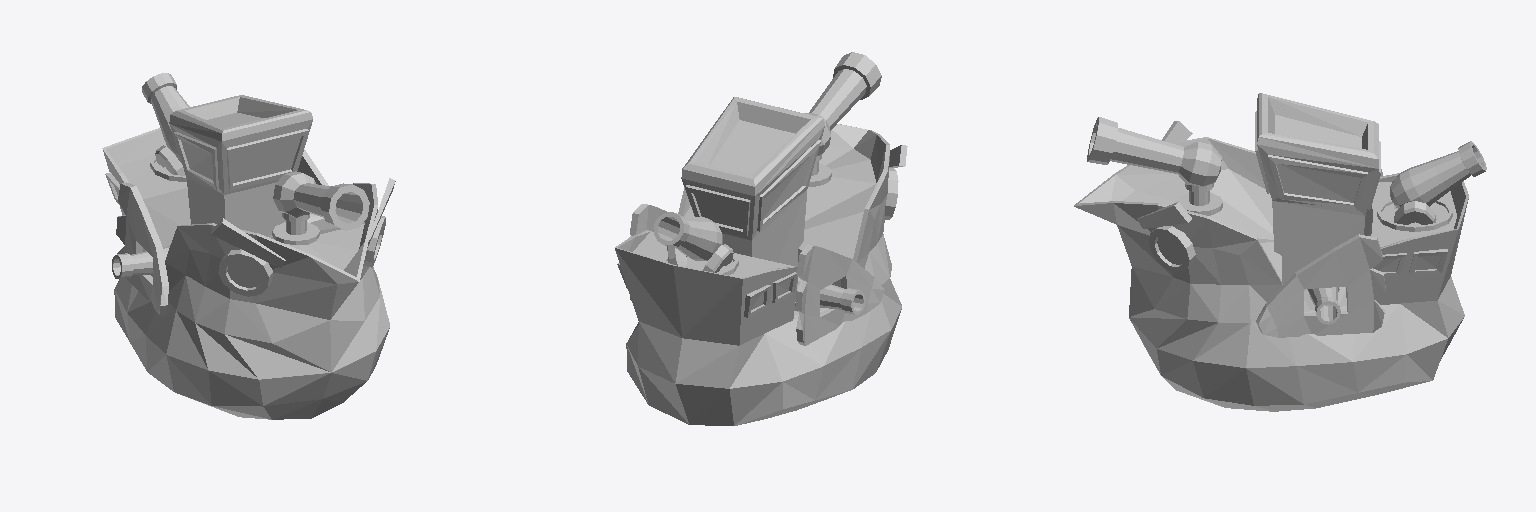
Rendered from BoatPlayer.obj.
3 renders of one model, left to right at view 1: azimuth 30°, elevation 25°; view 2: azimuth 150°, elevation 25°; view 3: azimuth 270°, elevation 25°, orthographic.
Parts seen in each view (by area): view 1: BoatBody, FrontCanon, BackCanon, SideCanonRight; view 2: BoatBody, BackCanon, FrontCanon, SideCanonRight; view 3: BoatBody, FrontCanon, BackCanon, SideCanonLeft.
Part boxes in pixels (left/top/right/bottom): BoatBody: left=102, top=95, right=395, bottom=419; FrontCanon: left=272, top=171, right=369, bottom=244; BackCanon: left=142, top=73, right=189, bottom=181; SideCanonRight: left=112, top=246, right=169, bottom=278; BoatBody: left=615, top=97, right=907, bottom=425; BackCanon: left=654, top=212, right=738, bottom=275; FrontCanon: left=804, top=52, right=881, bottom=186; SideCanonRight: left=795, top=277, right=865, bottom=314; BoatBody: left=1074, top=93, right=1468, bottom=411; FrontCanon: left=1087, top=117, right=1222, bottom=215; BackCanon: left=1377, top=141, right=1486, bottom=231; SideCanonLeft: left=1304, top=287, right=1344, bottom=324.
Size of the model in its own units: 3.46 by 4.05 by 5.34.